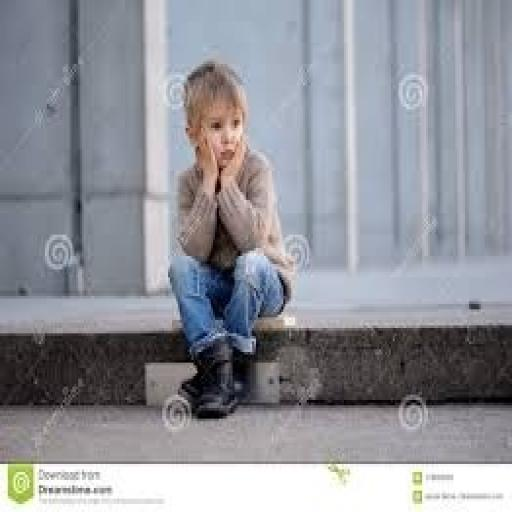sitting: (164, 58, 295, 418)
